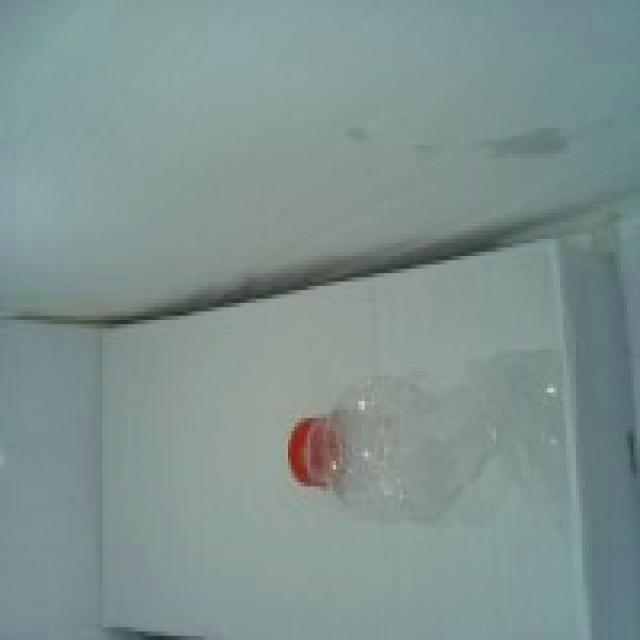bottle: (289, 351, 570, 529)
